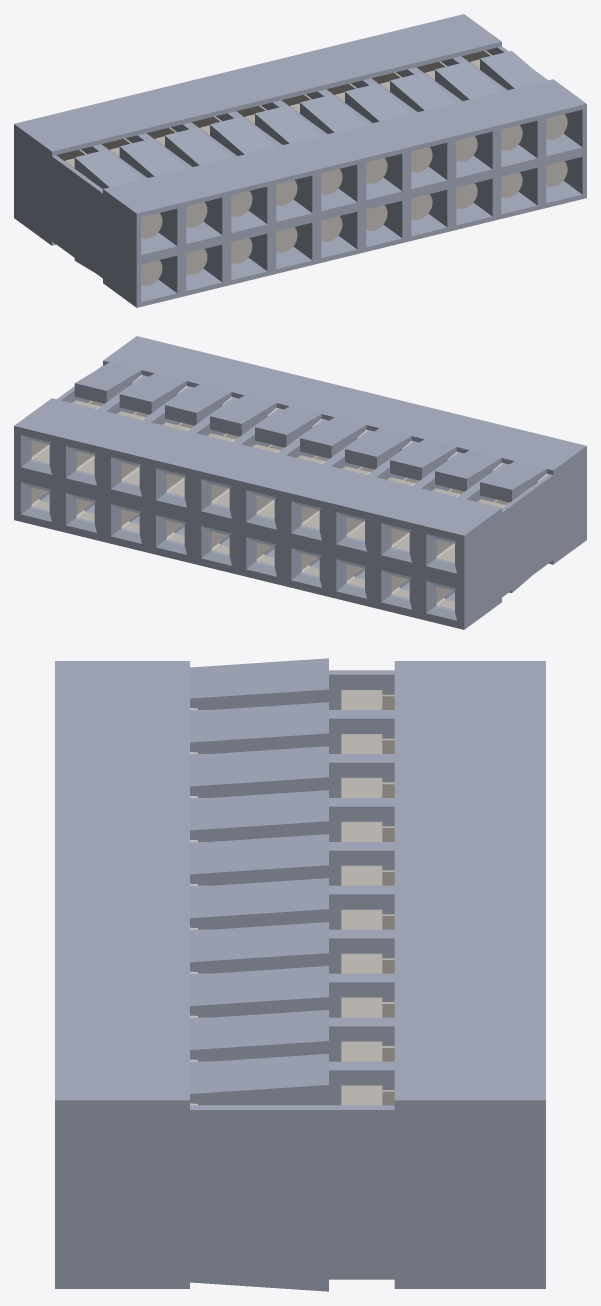
3 renders of one model, top to bottom at view 1: azimuth 30°, elevation 25°; view 2: azimuth 150°, elevation 25°; view 3: azimuth 270°, elevation 25°, orthographic. The views are drawn at different scales.
Parts seen in each view (by area): view 1: DS1071-2x10; view 2: DS1071-2x10; view 3: DS1071-2x10.
Part boxes in pixels (bbox=[...]): DS1071-2x10: bbox=[14, 14, 586, 307]; DS1071-2x10: bbox=[14, 336, 586, 629]; DS1071-2x10: bbox=[55, 658, 545, 1291].
Bounding box in the file's own units: 0.0102 × 0.00223 × 0.00481.
